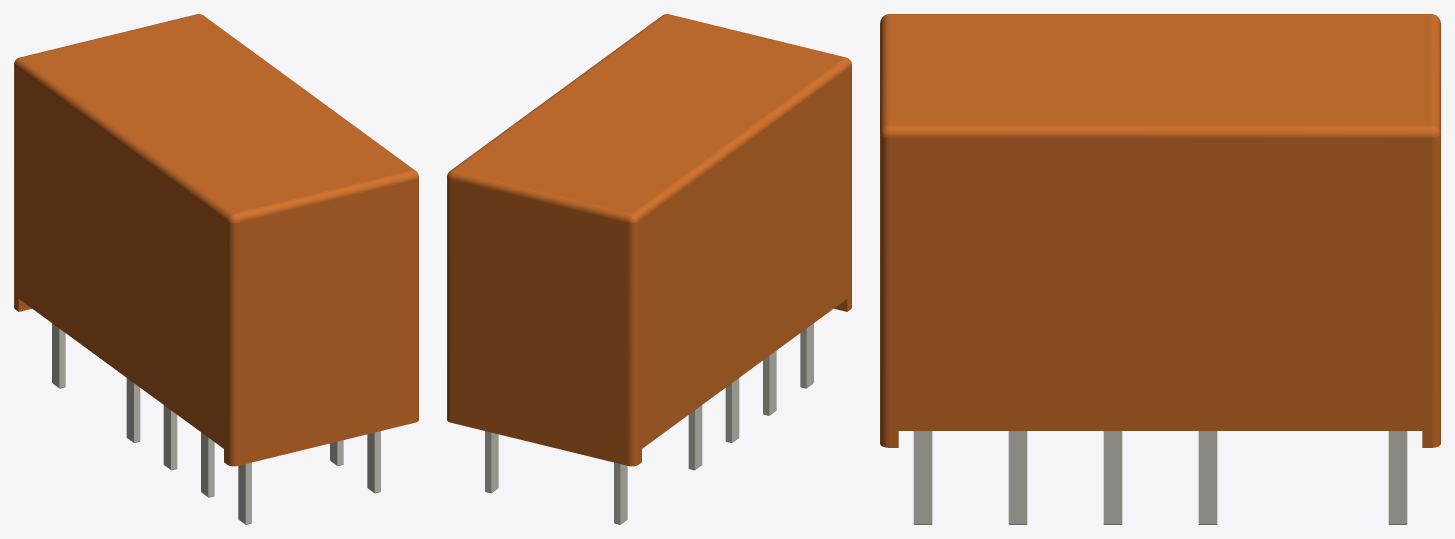
Rendered from kc-relay_dpdt_kemet_ec2_nj_doublecoil.glb.
3 views of the same model, side by side, from view 1: azimuth 30°, elevation 25°; view 2: azimuth 150°, elevation 25°; view 3: azimuth 270°, elevation 25° (orthographic). The views are drawn at different scales.
Visible parts, largest first — view 1: 0.5833333333333334_0.16666666666666666_0_0, 0.6666666666666666_0.6666666666666666_0.5833333333333334_0.8; view 2: 0.5833333333333334_0.16666666666666666_0_0, 0.6666666666666666_0.6666666666666666_0.5833333333333334_0.8; view 3: 0.5833333333333334_0.16666666666666666_0_0, 0.6666666666666666_0.6666666666666666_0.5833333333333334_0.8.
Boxes of the visible parts, x1,y1,x2,y2 form: 0.5833333333333334_0.16666666666666666_0_0: (14,14,418,466); 0.6666666666666666_0.6666666666666666_0.5833333333333334_0.8: (52,323,380,524); 0.5833333333333334_0.16666666666666666_0_0: (447,14,851,466); 0.6666666666666666_0.6666666666666666_0.5833333333333334_0.8: (485,323,813,524); 0.5833333333333334_0.16666666666666666_0_0: (880,14,1440,447); 0.6666666666666666_0.6666666666666666_0.5833333333333334_0.8: (913,431,1407,524).
Size of the model in its own units: 0.7501 by 1.22 by 1.5.
